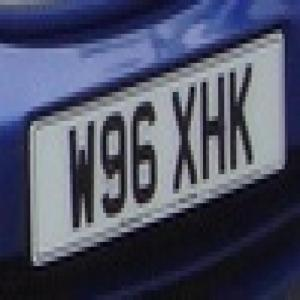Plate: (14, 12, 290, 274)
